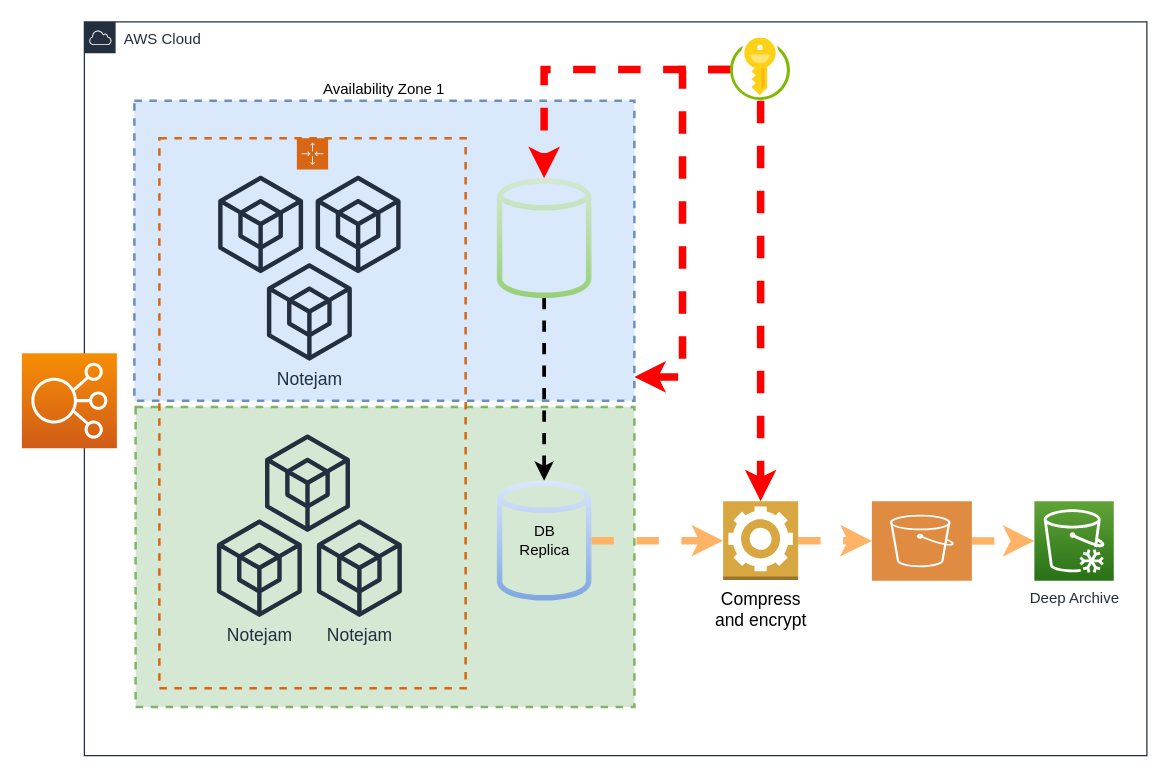
Some shapes in this 1169 by 778 pixel diagram are drawn without their labels. Each missing label, with the box of its shape:
Auto Scaling EKS Pool: (158, 136, 466, 689)
Availability Zone 2: (134, 405, 635, 708)
Data Archive: (871, 501, 971, 580)
DB Master: (496, 174, 591, 301)
